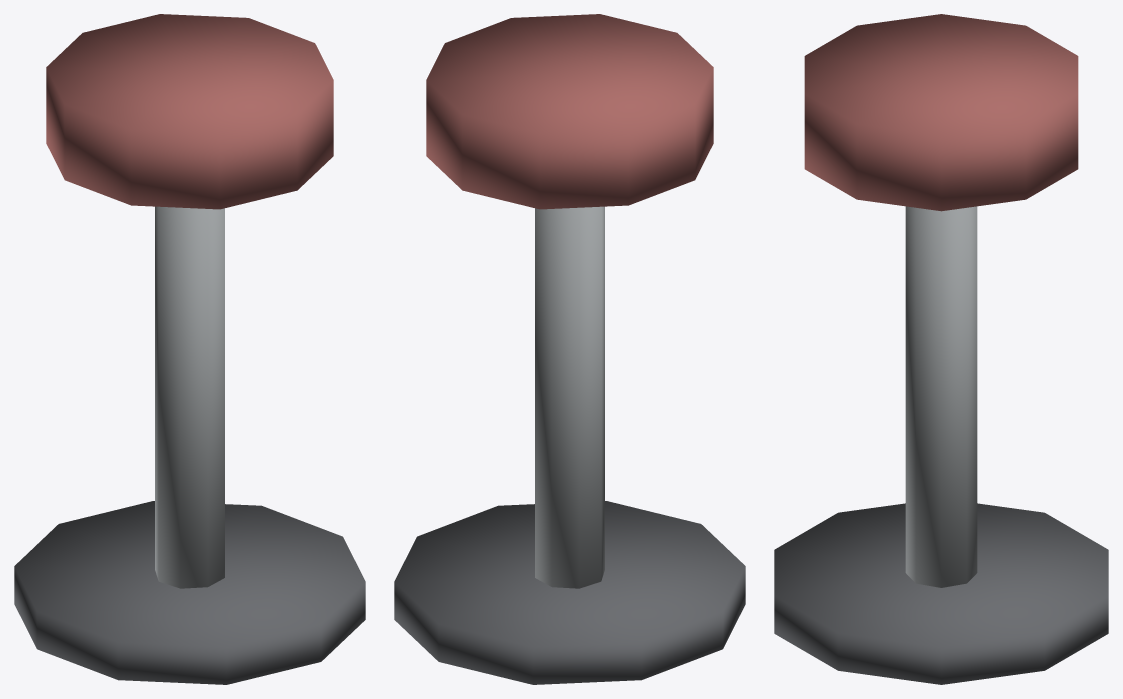
The model's file is diner_counter_stool__tall.glb.
3 views of the same model, side by side, from view 1: azimuth 30°, elevation 25°; view 2: azimuth 150°, elevation 25°; view 3: azimuth 270°, elevation 25° (orthographic).
Visible parts, largest first — view 1: world; view 2: world; view 3: world.
Boxes of the visible parts, x1,y1,x2,y2 form: world: [14, 14, 365, 684]; world: [394, 14, 745, 684]; world: [774, 14, 1108, 684].
Size of the model in its own units: 0.44 by 0.7714 by 0.4185.
